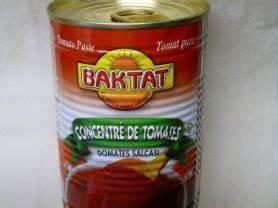metal: (48, 0, 210, 208)
